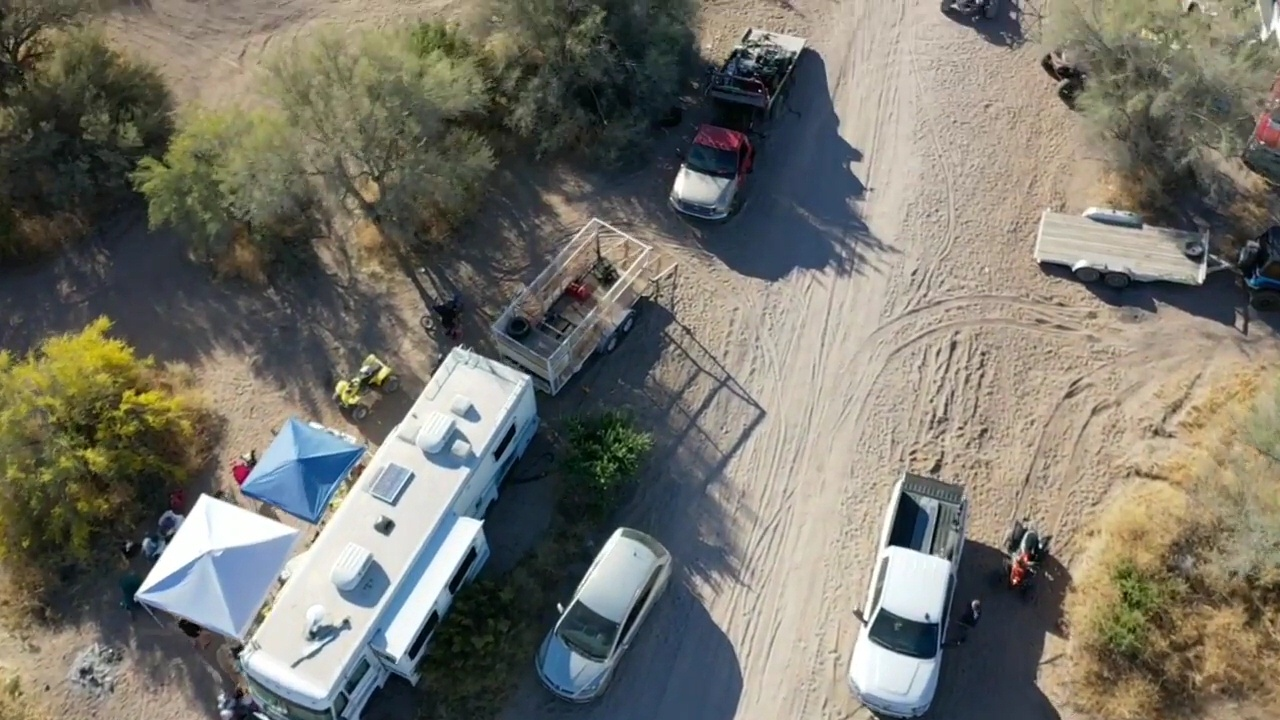araba: (534, 519, 677, 703), (670, 113, 764, 222)
kamyonet: (847, 471, 972, 714)
otobus: (234, 344, 542, 720)
